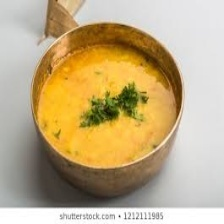dal: (34, 37, 177, 168)
